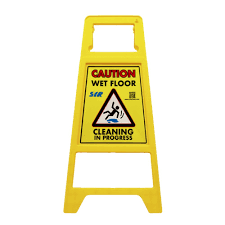wet caution sign: (67, 4, 165, 213)
